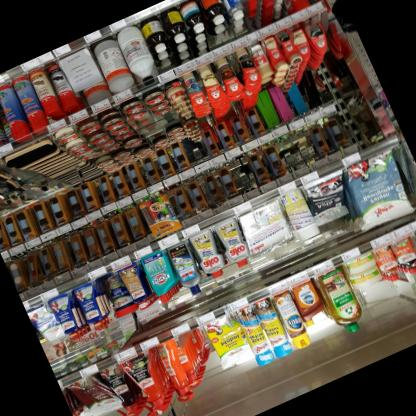empty_space: (174, 324, 228, 392), (275, 134, 311, 180), (227, 156, 263, 202), (304, 63, 338, 107), (295, 128, 325, 171), (293, 73, 322, 112)
